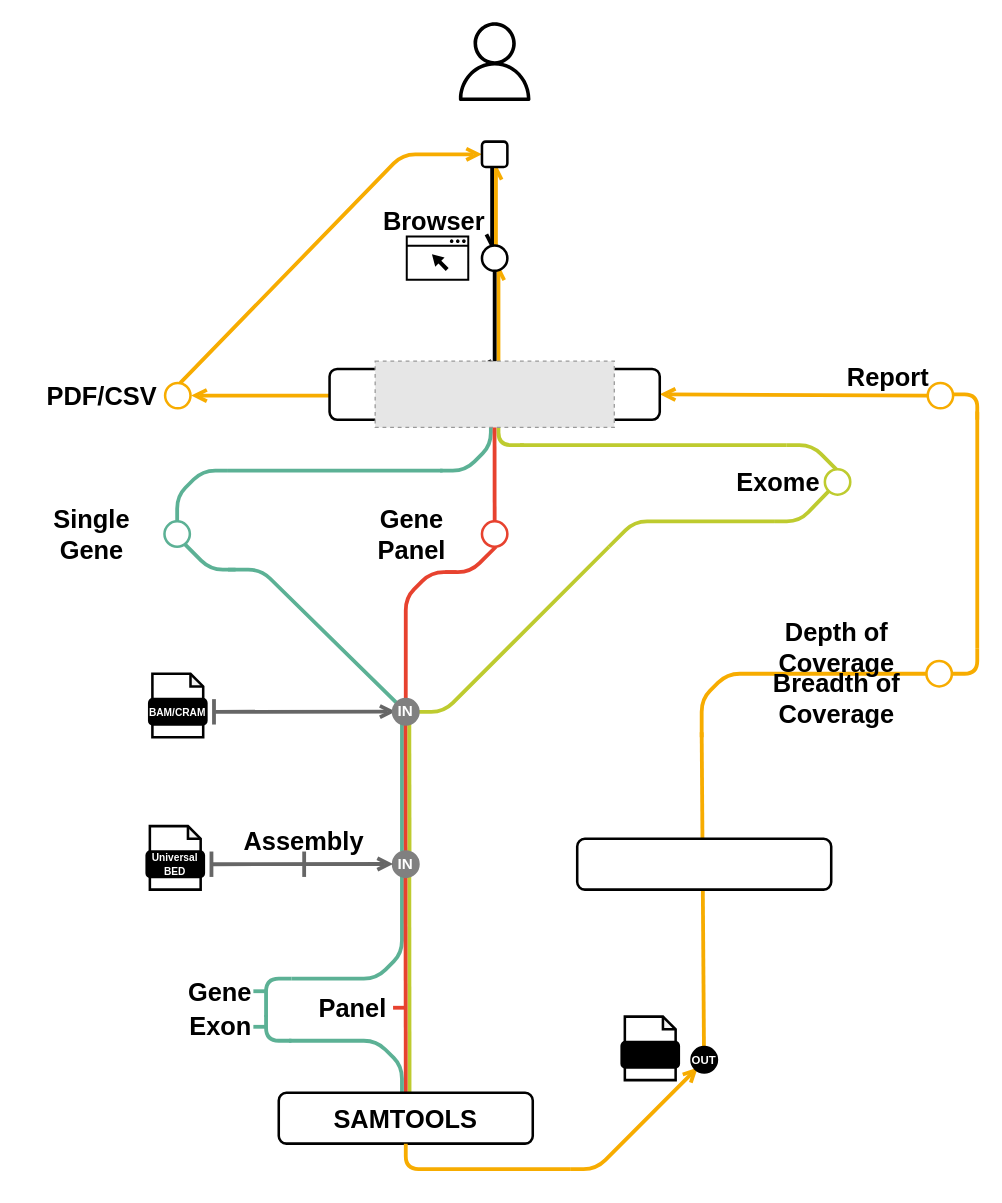
Image size: 1002x1203. Some labels were removed from this diagram. Grey dashed boxes stand in for pictures. Here are the shapes that lost their labels. From the top down, the centre of each, then its label:
At point (494, 61): "USER".
At point (703, 863): "Python script".
At point (649, 1054): "DEPTH".
